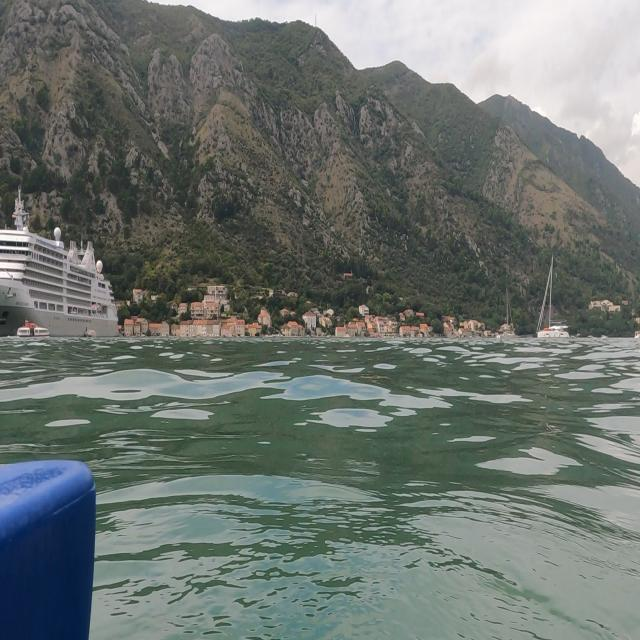boat: (1, 181, 121, 341), (531, 249, 577, 360)
